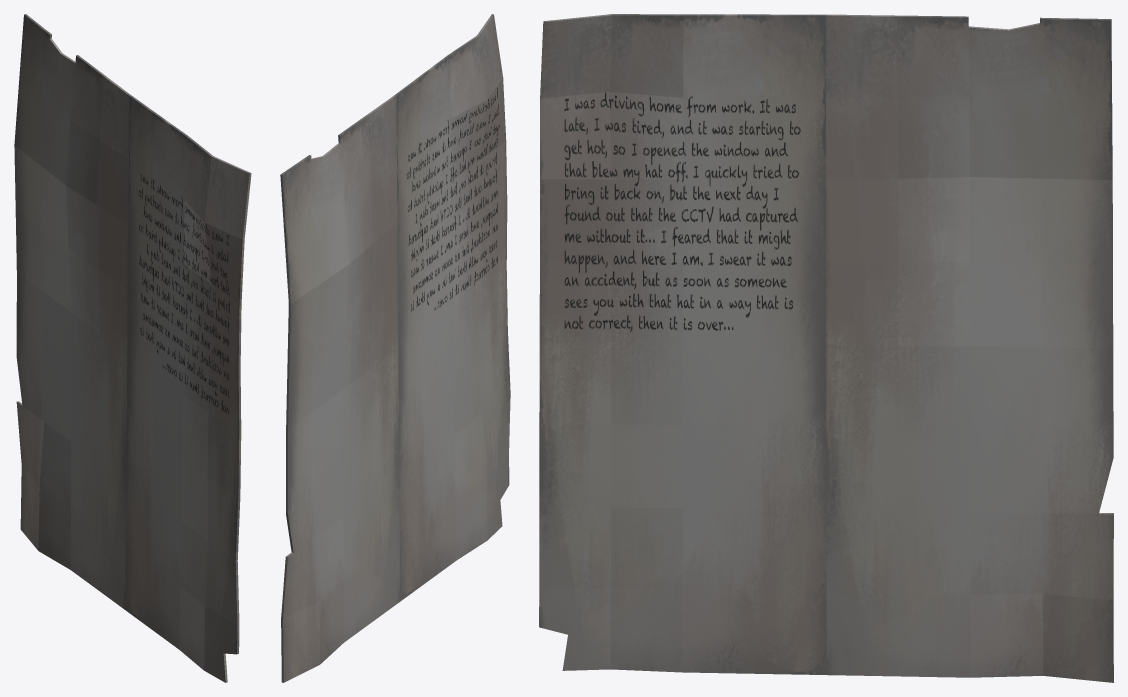
The model's file is letter.fbx.
3 renders of one model, left to right at view 1: azimuth 30°, elevation 25°; view 2: azimuth 150°, elevation 25°; view 3: azimuth 270°, elevation 25°, orthographic. The views are drawn at different scales.
Visible parts, largest first — view 1: letter.001; view 2: letter.001; view 3: letter.001.
Boxes of the visible parts, bbox=[...] form: letter.001: bbox=[14, 14, 251, 682]; letter.001: bbox=[280, 14, 510, 682]; letter.001: bbox=[539, 14, 1113, 682].
Size of the model in its own units: 15.3 by 353 by 276.
